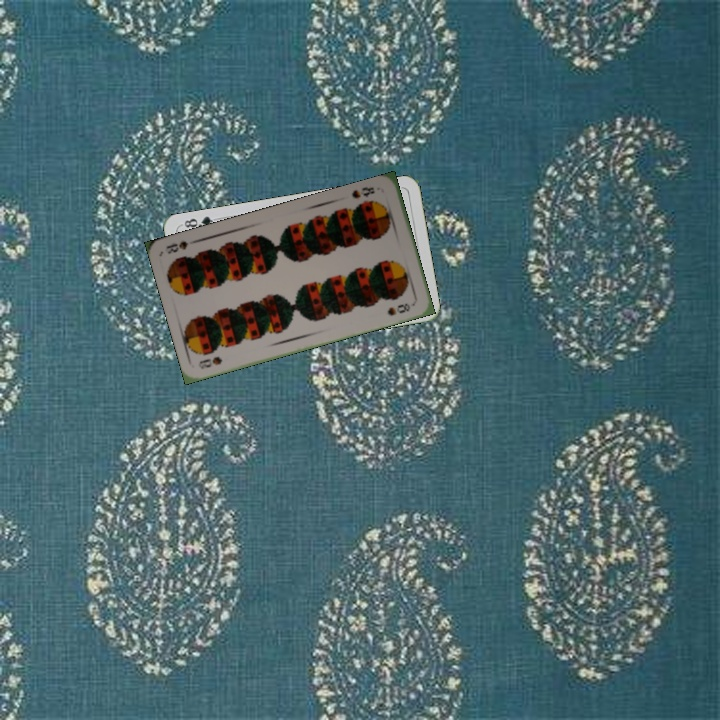S8: (195, 352, 225, 372), (348, 183, 378, 201)
